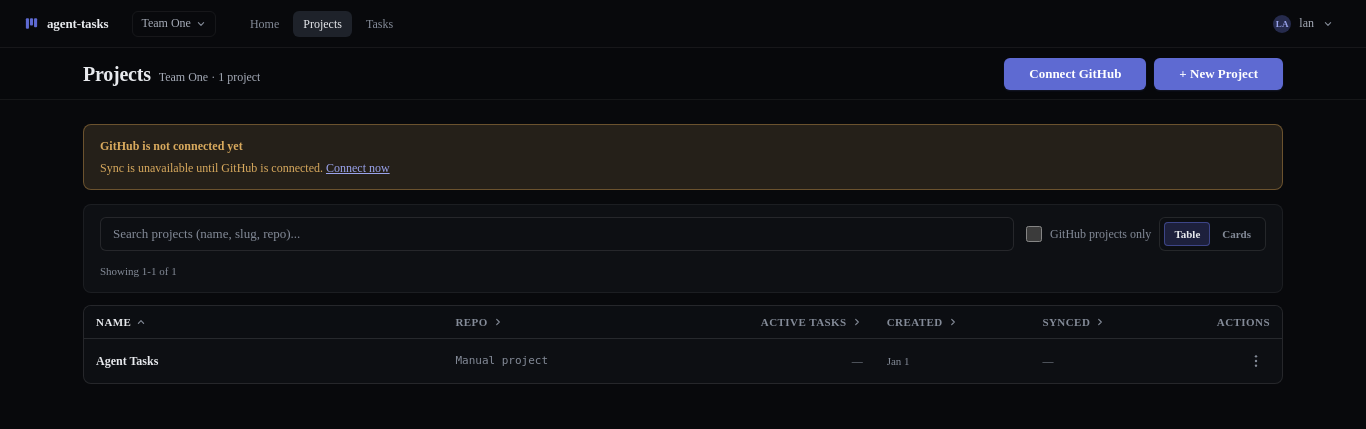
Test: /projects page: current team follows the URL › re-resolves the team and reloads its projects when the header switches
Expected: the text "Team One · 1 project" is shown, left=159, top=68, right=260, bottom=86
What coordinates should you click on to do the following:
click the button with aria-label "Switch team"
I would click on:
 (174, 24)
Its box is left=132, top=10, right=216, bottom=36.
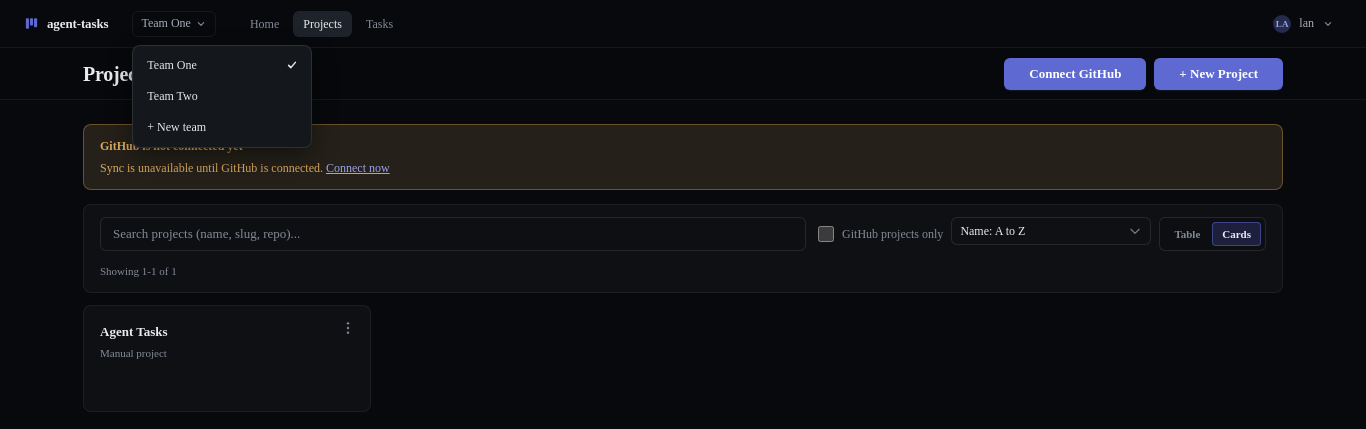
What coordinates should you click on to do the following:
click the menu item "Team Two"
I would click on:
 (222, 96)
Its box is left=137, top=80, right=307, bottom=112.
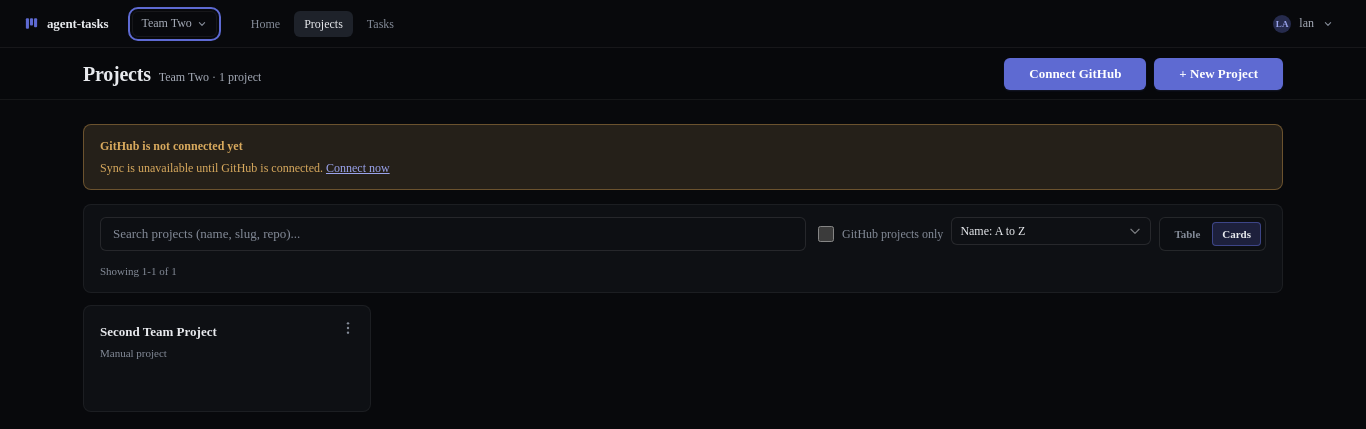
Expected: the text "Team Two · 1 project" is shown, left=159, top=68, right=261, bottom=86
Expected: the heading "Second Team Project" is shown, left=100, top=324, right=217, bottom=339
Expected: the link "Agent Tasks" is gone
